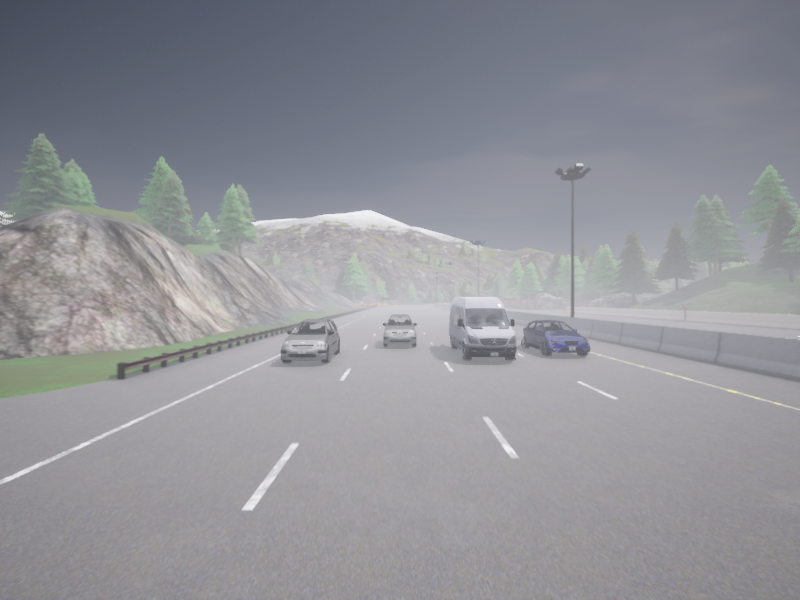vehicle: (449, 297, 516, 360), (281, 319, 340, 363), (522, 320, 590, 356), (382, 314, 417, 347)
